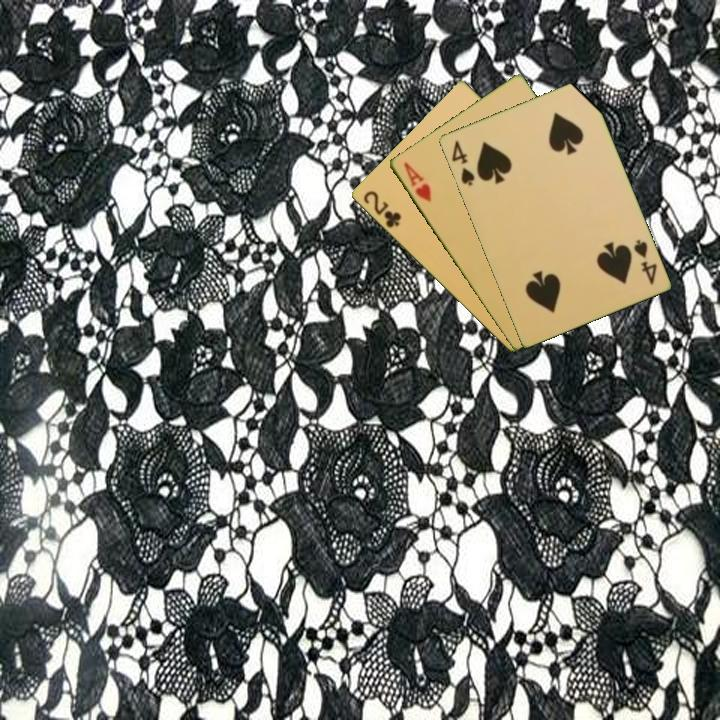2c: (359, 187, 404, 231)
4s: (630, 236, 660, 288), (448, 136, 477, 189)
Ah: (400, 158, 434, 205)
